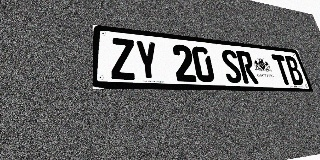0: (191, 46, 215, 82)
2: (172, 44, 197, 82)
B: (283, 56, 305, 85)
R: (235, 50, 259, 84)
S: (220, 49, 244, 83)
T: (271, 54, 293, 85)
Y: (134, 40, 160, 81)
Z: (110, 37, 136, 80)
